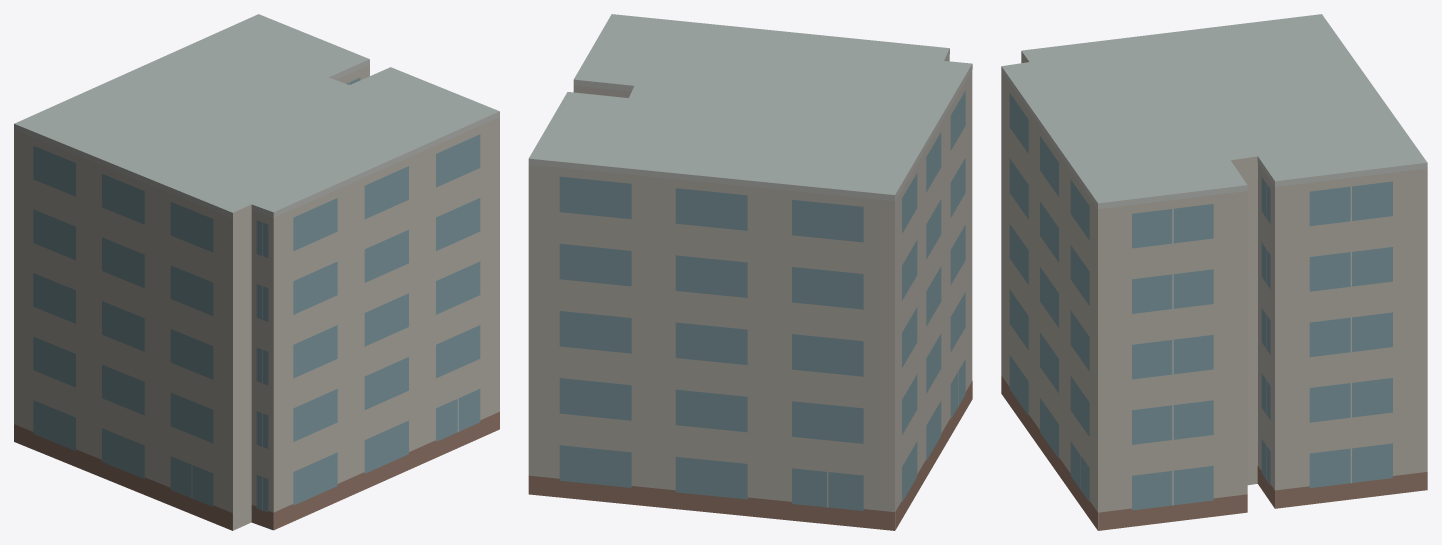
File: survey-upis-32743544.glb
The picture shows the model from 3 angles, left to right: view 1: azimuth 30°, elevation 25°; view 2: azimuth 150°, elevation 25°; view 3: azimuth 270°, elevation 25°; orthographic projection. The views are drawn at different scales.
Visible parts, largest first — view 1: survey-upis-32743544.tmp; view 2: survey-upis-32743544.tmp; view 3: survey-upis-32743544.tmp.
Boxes of the visible parts, x1=… form: survey-upis-32743544.tmp: x1=14, y1=14, x2=499, y2=530; survey-upis-32743544.tmp: x1=528, y1=14, x2=972, y2=530; survey-upis-32743544.tmp: x1=1001, y1=14, x2=1427, y2=530.
Size of the model in its own units: 17.07 by 13.75 by 16.23.
